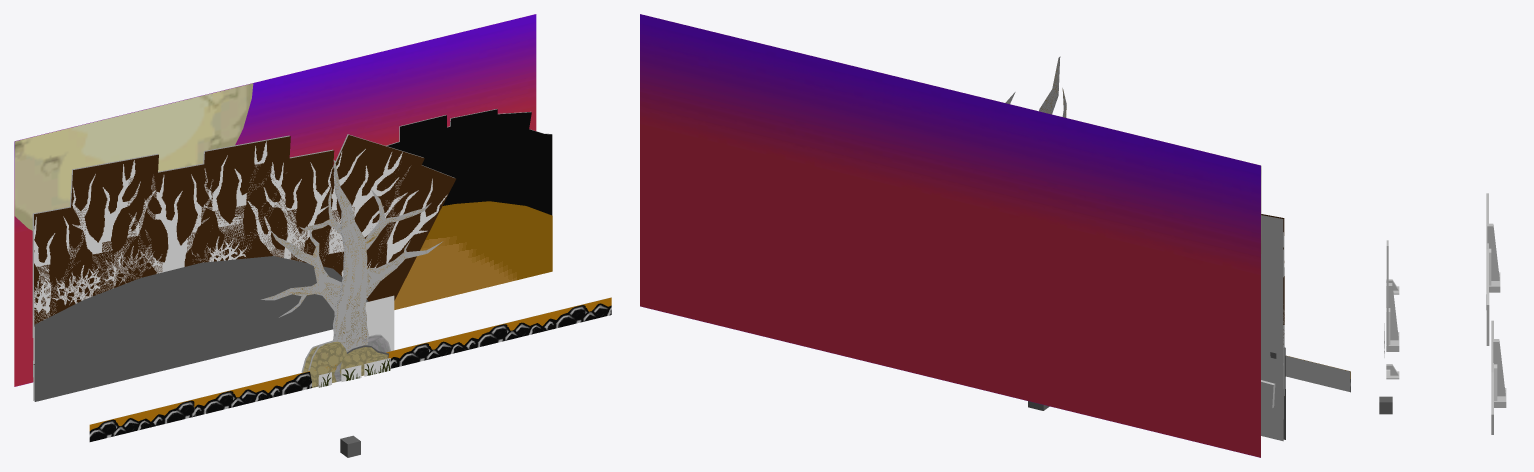
File: stg_04_0_bake_split.dae
3 views of the same model, side by side, from view 1: azimuth 30°, elevation 25°; view 2: azimuth 150°, elevation 25°; view 3: azimuth 270°, elevation 25° (orthographic). The views are drawn at different scales.
Visible parts, largest first — view 1: pPlane450_q00157, polySurface972_q00103, pCylinder27_q00156, polySurface963_q00136, polySurface1267_q00029_part1, polySurface953_q00091_VC, polySurface953_q00088_VC, polySurface953_q00089_VC, polySurface959_q00037, polySurface953_q00093_VC, polySurface953_q00092_VC, polySurface953_q00094_VC (+33 smaller); view 2: pPlane450_q00157, polySurface953_q00112, polySurface959_q00036, polySurface972_q00126; view 3: pCube24_q00082, pCube24_q00079, pCube24_q00027, polySurface1250_q00085, polySurface1253_q00028, polySurface1250_q00086, pCube25_q00000, polySurface1250_q00087, pCube22_q00025.
Part boxes in pixels (<box>): pPlane450_q00157: <box>14,14,536,386</box>; polySurface972_q00103: <box>34,256,368,401</box>; pCylinder27_q00156: <box>14,83,253,230</box>; polySurface963_q00136: <box>394,201,552,309</box>; polySurface1267_q00029_part1: <box>261,160,442,351</box>; polySurface953_q00091_VC: <box>68,154,158,299</box>; polySurface953_q00088_VC: <box>243,150,334,266</box>; polySurface953_q00089_VC: <box>123,162,214,283</box>; polySurface959_q00037: <box>89,303,611,441</box>; polySurface953_q00093_VC: <box>316,135,424,267</box>; polySurface953_q00092_VC: <box>199,136,290,262</box>; polySurface953_q00094_VC: <box>374,158,455,300</box>; pPlane450_q00157: <box>640,14,1260,457</box>; polySurface953_q00112: <box>1261,215,1283,367</box>; polySurface959_q00036: <box>1285,356,1350,392</box>; polySurface972_q00126: <box>1261,349,1283,441</box>; pCube24_q00082: <box>1493,339,1505,396</box>; pCube24_q00079: <box>1487,223,1499,280</box>; pCube24_q00027: <box>1386,283,1398,340</box>; polySurface1250_q00085: <box>1491,320,1493,434</box>; polySurface1253_q00028: <box>1386,240,1388,345</box>; polySurface1250_q00086: <box>1486,193,1488,309</box>; pCube25_q00000: <box>1379,396,1392,414</box>; polySurface1250_q00087: <box>1486,293,1489,345</box>; pCube22_q00025: <box>1386,332,1399,351</box>.
Size of what is drawn, in the model's own units: 40.04 by 23.5 by 10.5.
